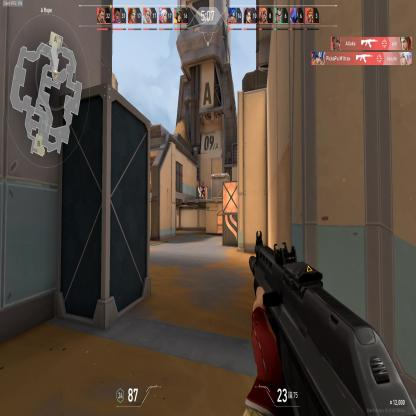enemy: (201, 180, 205, 200)
